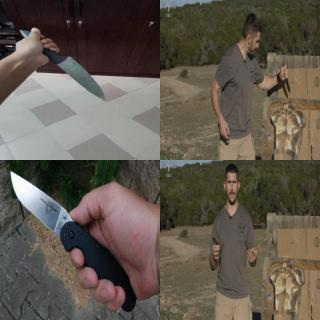knife: (8, 166, 126, 312), (47, 54, 124, 102), (281, 61, 291, 95), (211, 235, 221, 251)
